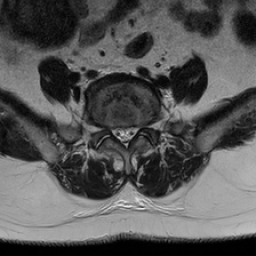CCS_normal: (120, 120, 130, 150)
LFS_severe_stenosis: (139, 118, 147, 139)
LLS_normal: (129, 121, 138, 140)
RFS_severe_stenosis: (104, 120, 112, 140)
RLS_stenosis: (110, 121, 120, 141)
